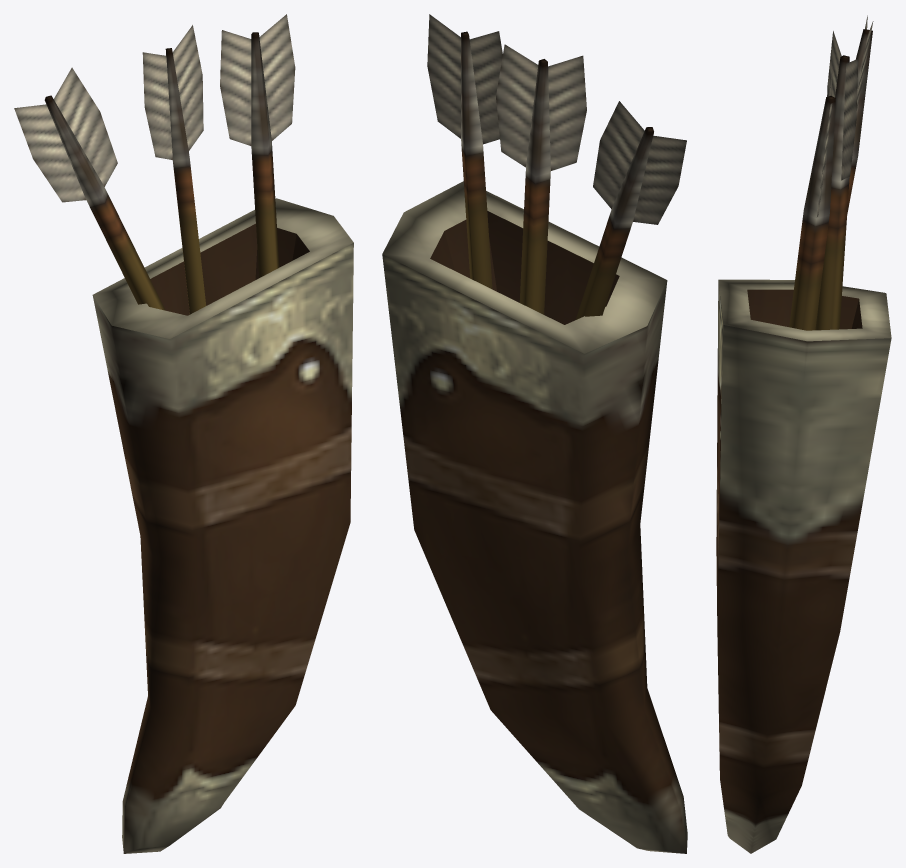
File: Archer_quiver_000.FBX
3 views of the same model, side by side, from view 1: azimuth 30°, elevation 25°; view 2: azimuth 150°, elevation 25°; view 3: azimuth 270°, elevation 25° (orthographic). The views are drawn at different scales.
Visible parts, largest first — view 1: quiver; view 2: quiver; view 3: quiver.
Boxes of the visible parts, <box> form: quiver: <box>14,14,353,853</box>; quiver: <box>382,14,687,853</box>; quiver: <box>716,15,891,853</box>.
Size of the model in its own units: 16.28 by 41.01 by 7.78.
1 material, 1 textured.
